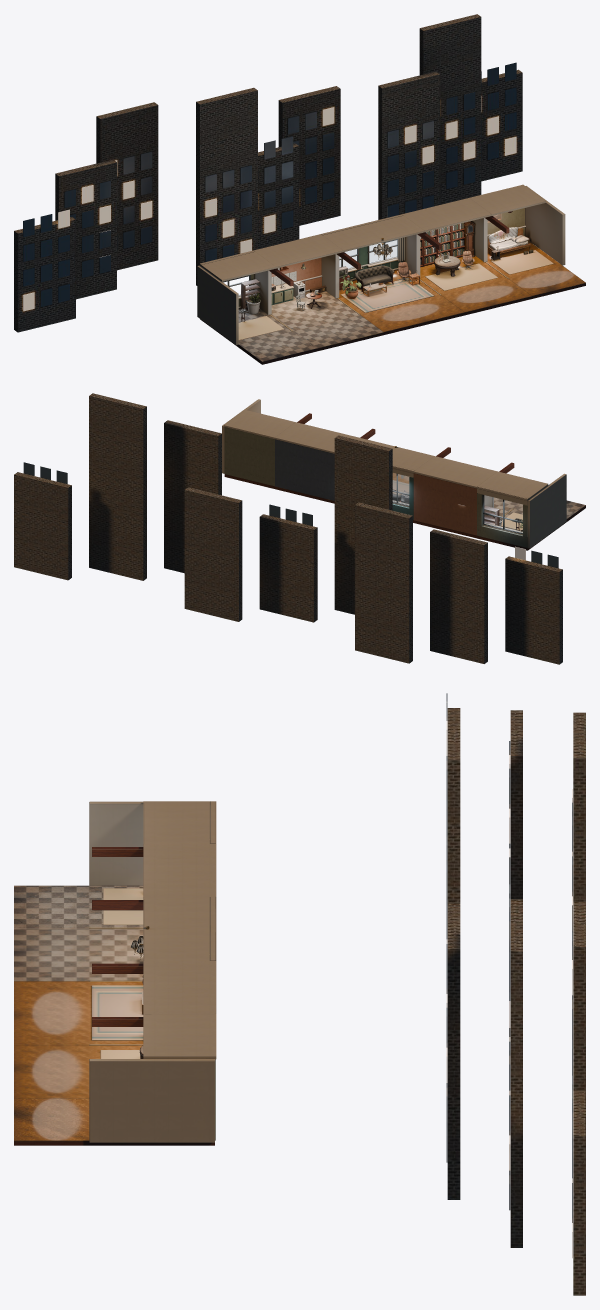
Rendered from room.glb.
The picture shows the model from 3 angles, top to bottom: view 1: azimuth 30°, elevation 25°; view 2: azimuth 150°, elevation 25°; view 3: azimuth 270°, elevation 25°; orthographic projection. The views are drawn at different scales.
Visible parts, largest first — view 1: s_city_outside, s_living_floor, s_kitchen_floor, s_study_floor, s_bedroom_floor, s_garden_floor, s_garden_shell, s_bedroom_shell, s_kitchen_shell, s_study_ceiling, s_kitchen_ceiling, s_living_ceiling (+9 smaller); view 2: s_city_outside, s_garden_shell, s_kitchen_shell, s_study_shell, s_bedroom_shell, s_kitchen_ceiling, s_study_ceiling, s_bedroom_ceiling, s_garden_ceiling, s_garden_floor, s_living_ceiling, s_living_shell (+1 smaller); view 3: s_city_outside, s_bedroom_shell, s_living_floor, s_kitchen_floor, s_garden_floor, s_kitchen_ceiling, s_study_ceiling, s_study_floor, s_living_ceiling, s_garden_shell, s_bedroom_floor, s_bedroom_ceiling (+1 smaller).
Boxes of the visible parts, bbox=[...] form: s_city_outside: bbox=[14, 14, 522, 332]; s_living_floor: bbox=[338, 269, 464, 334]; s_kitchen_floor: bbox=[269, 291, 383, 351]; s_study_floor: bbox=[420, 255, 531, 315]; s_bedroom_floor: bbox=[486, 242, 585, 298]; s_garden_floor: bbox=[200, 308, 316, 364]; s_garden_shell: bbox=[197, 250, 254, 345]; s_bedroom_shell: bbox=[487, 186, 565, 265]; s_kitchen_shell: bbox=[254, 254, 339, 314]; s_study_ceiling: bbox=[402, 198, 509, 249]; s_kitchen_ceiling: bbox=[254, 234, 360, 286]; s_living_ceiling: bbox=[323, 215, 424, 251]; s_city_outside: bbox=[14, 393, 562, 664]; s_garden_shell: bbox=[477, 473, 566, 548]; s_kitchen_shell: bbox=[413, 473, 493, 535]; s_study_shell: bbox=[275, 439, 334, 500]; s_bedroom_shell: bbox=[222, 399, 274, 486]; s_kitchen_ceiling: bbox=[413, 447, 514, 488]; s_study_ceiling: bbox=[274, 413, 375, 453]; s_bedroom_ceiling: bbox=[224, 410, 295, 438]; s_garden_ceiling: bbox=[476, 471, 548, 500]; s_garden_floor: bbox=[477, 500, 585, 550]; s_living_ceiling: bbox=[356, 437, 434, 472]; s_living_shell: bbox=[392, 465, 414, 519]; s_city_outside: bbox=[446, 693, 585, 1295]; s_bedroom_shell: bbox=[89, 1059, 215, 1142]; s_living_floor: bbox=[14, 981, 143, 1044]; s_kitchen_floor: bbox=[14, 927, 143, 981]; s_garden_floor: bbox=[14, 885, 143, 928]; s_kitchen_ceiling: bbox=[92, 844, 216, 910]; s_study_ceiling: bbox=[92, 961, 216, 1026]; s_study_floor: bbox=[14, 1044, 143, 1098]; s_living_ceiling: bbox=[143, 897, 216, 960]; s_garden_shell: bbox=[89, 801, 215, 885]; s_bedroom_floor: bbox=[14, 1098, 214, 1145]; s_bedroom_ceiling: bbox=[143, 1014, 216, 1059].
Bounding box in the file's own units: 40.3 × 13 × 22.75.
39 materials, 38 textured.
